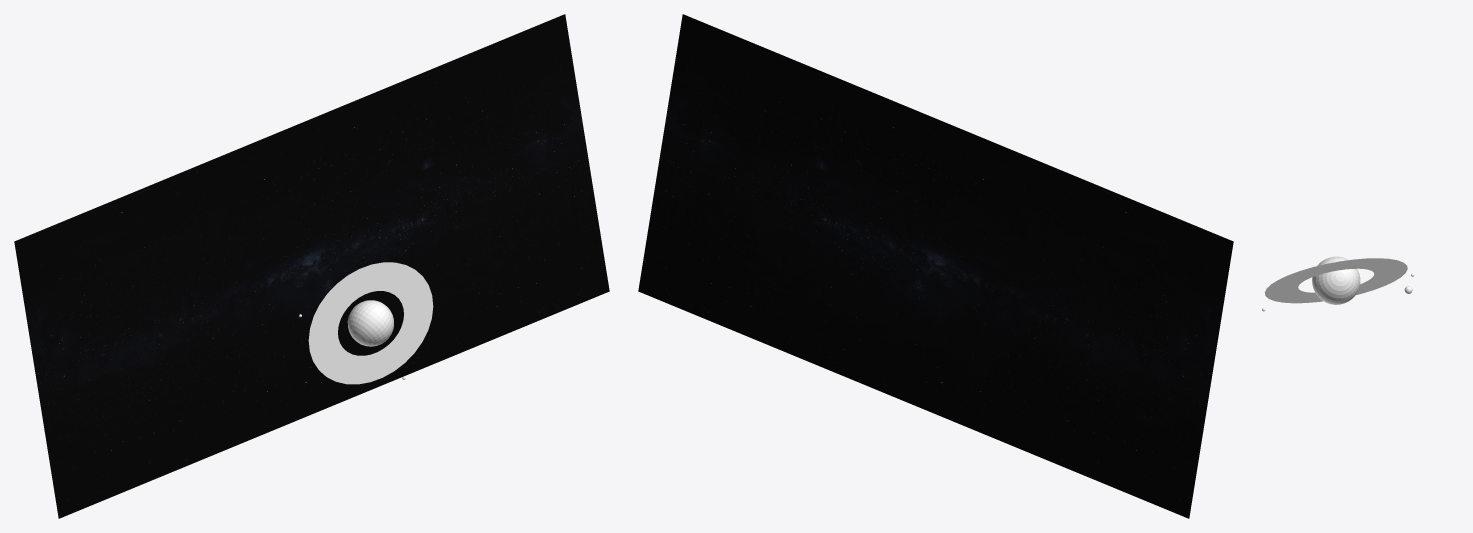
The model's file is [qr-7]_Nastya_umnichka_sdelala_saturn.glb.
The picture shows the model from 3 angles, left to right: view 1: azimuth 30°, elevation 25°; view 2: azimuth 150°, elevation 25°; view 3: azimuth 270°, elevation 25°; orthographic projection. The views are drawn at different scales.
Parts seen in each view (by area): view 1: 2k_stars_milky_way, Circle, Sphere; view 2: 2k_stars_milky_way; view 3: Circle, Sphere.
Part boxes in pixels (x1=…): 2k_stars_milky_way: x1=14, y1=14, x2=609, y2=518; Circle: x1=308, y1=262, x2=433, y2=384; Sphere: x1=347, y1=300, x2=393, y2=346; 2k_stars_milky_way: x1=638, y1=14, x2=1233, y2=518; Circle: x1=1264, y1=258, x2=1407, y2=303; Sphere: x1=1312, y1=256, x2=1360, y2=304.
Size of the model in its own units: 24.16 by 14.79 by 6.65.
3 materials, 1 textured.
